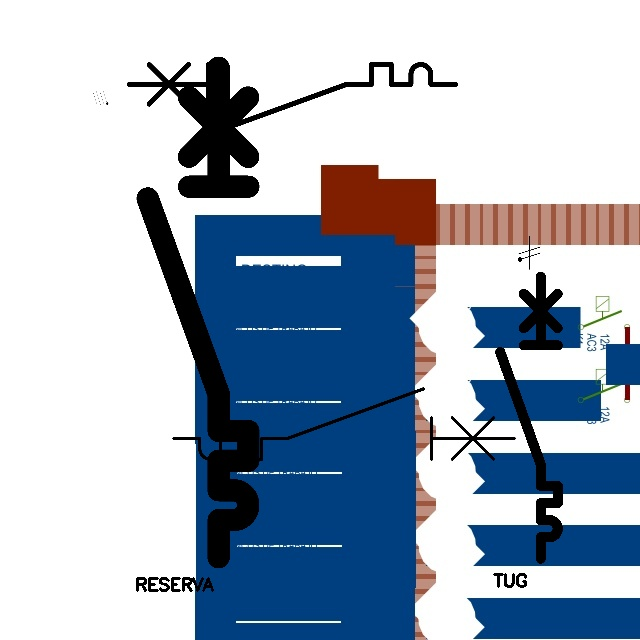interruptor_termomagnetico: (135, 55, 261, 570), (165, 380, 523, 468), (120, 56, 463, 140), (493, 269, 565, 566)
